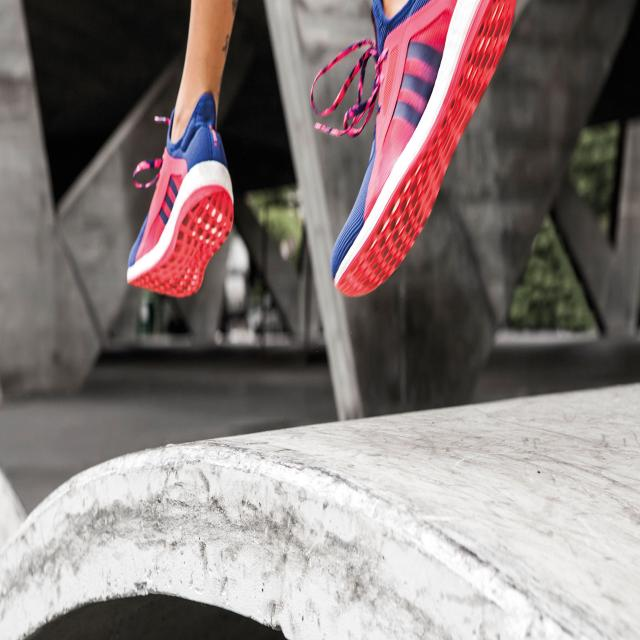adidas logo: (382, 14, 452, 154), (152, 162, 190, 240)
